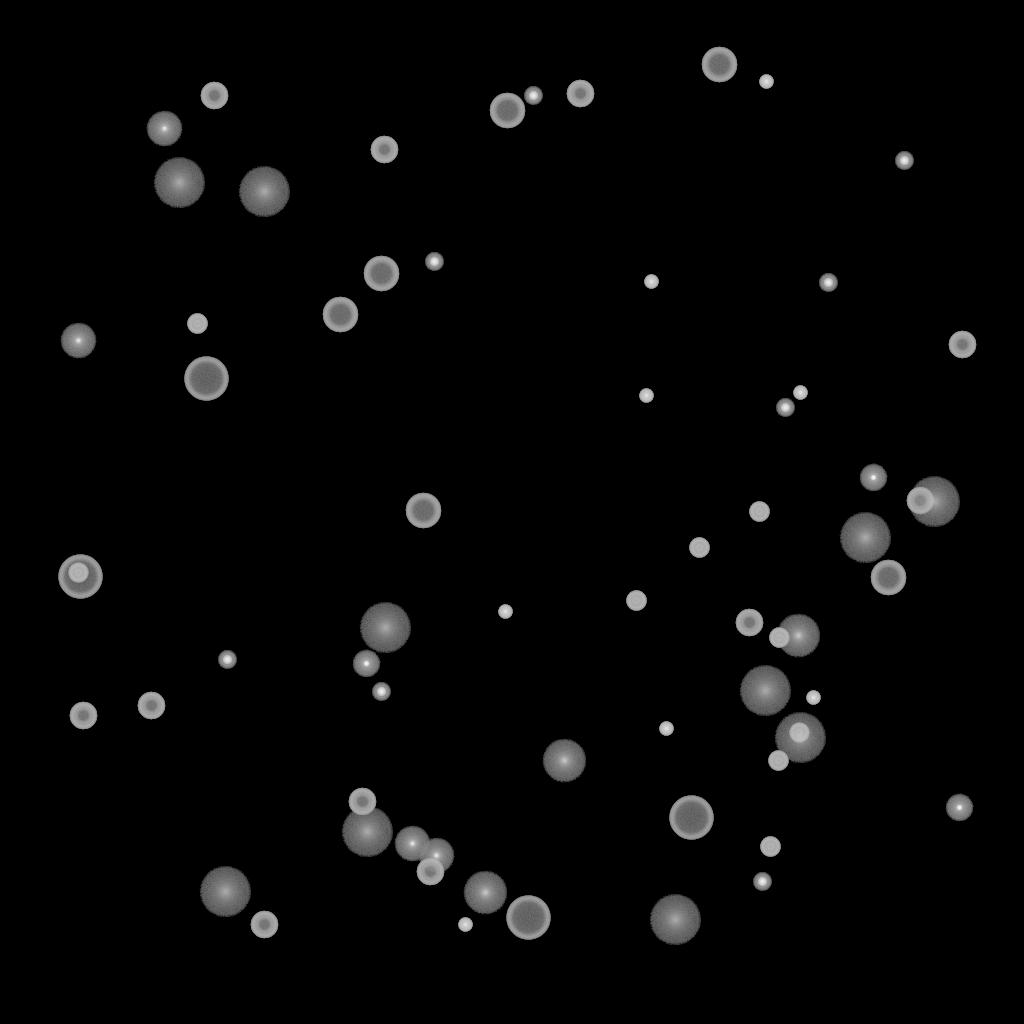depth:-10: (352, 650, 380, 678), (859, 464, 887, 492), (945, 794, 973, 822)
depth:-20: (524, 87, 542, 105), (753, 873, 771, 891), (819, 274, 837, 292), (218, 651, 236, 669), (776, 399, 794, 417), (895, 152, 913, 170), (425, 253, 443, 271), (372, 683, 390, 701)
depth:-30: (806, 691, 820, 705), (644, 275, 658, 289), (498, 605, 512, 619), (458, 918, 472, 932), (793, 386, 807, 400), (639, 389, 653, 403), (759, 75, 773, 89), (659, 722, 673, 736)
depth:-40: (68, 563, 88, 583), (626, 591, 646, 611), (789, 723, 809, 743), (689, 538, 709, 558), (749, 502, 769, 522), (768, 751, 788, 771), (187, 314, 207, 334), (769, 628, 789, 648), (760, 837, 780, 857)
depth:-50: (416, 858, 444, 886), (566, 80, 594, 108), (137, 692, 165, 720), (200, 82, 228, 110), (69, 702, 97, 730), (348, 788, 376, 816), (370, 136, 398, 164), (948, 331, 976, 359), (735, 609, 763, 637), (250, 911, 278, 939), (906, 487, 934, 515)
depth:-60: (870, 560, 906, 596), (489, 93, 525, 129), (322, 297, 358, 333), (701, 47, 737, 83), (405, 493, 441, 529), (363, 256, 399, 292)
depth:-70: (506, 896, 550, 940), (58, 555, 102, 599), (669, 796, 713, 840), (184, 357, 228, 401)
depth:0: (60, 323, 96, 359), (146, 111, 182, 147), (394, 826, 430, 862), (418, 838, 454, 874)
depth:10: (463, 871, 507, 915), (542, 739, 586, 783), (776, 614, 820, 658)
depth:20: (649, 895, 701, 945), (908, 477, 960, 527), (739, 666, 791, 716), (839, 513, 891, 563), (341, 807, 393, 857), (153, 158, 205, 208), (774, 713, 826, 763), (199, 867, 251, 917), (359, 603, 411, 653), (238, 167, 290, 217)
